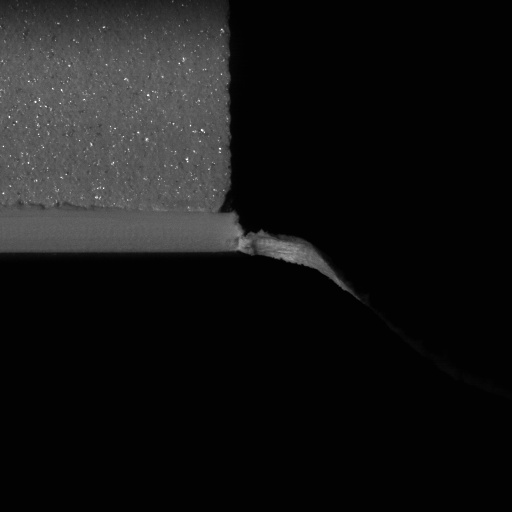bengque: (213, 190, 241, 217)
changdai: (235, 212, 365, 304)
